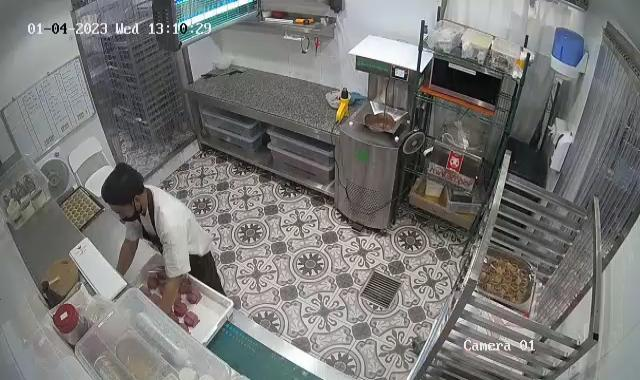no_hairnet: (99, 164, 148, 208)
